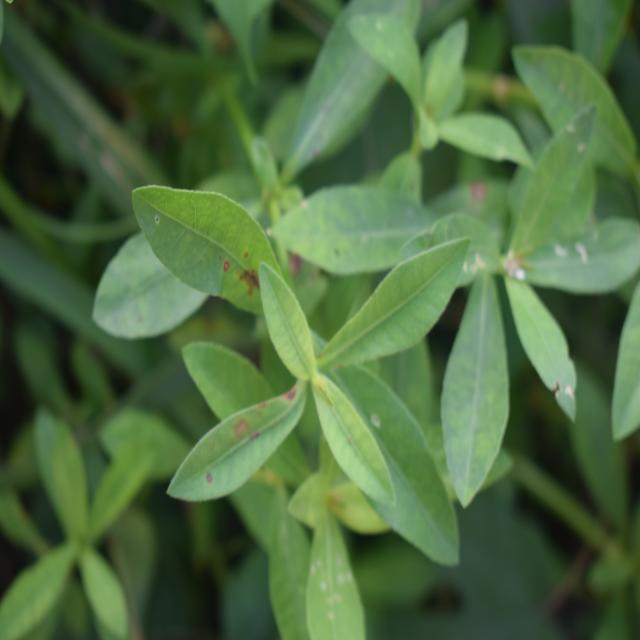Alligatorweed: (135, 144, 467, 563)
